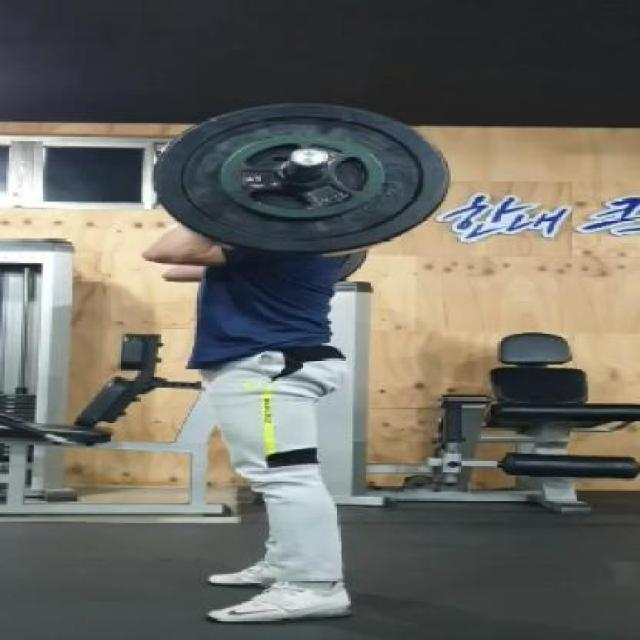barbell: (142, 97, 485, 268)
